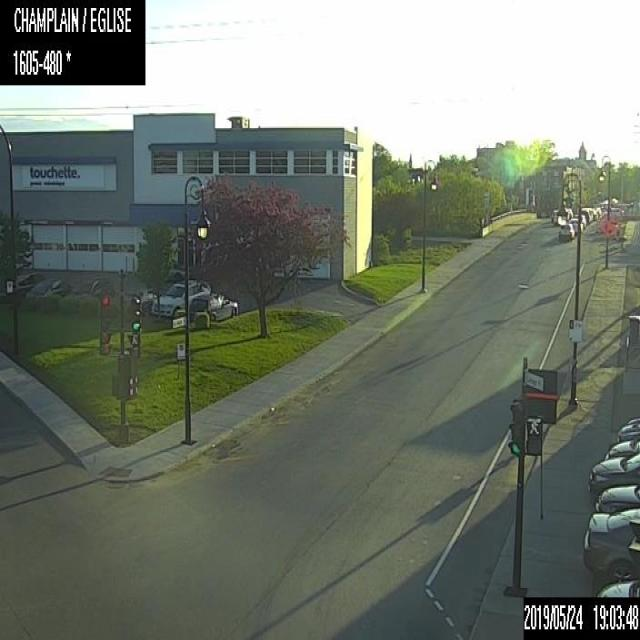construction: (602, 220, 613, 235)
vehicle: (583, 506, 639, 582), (151, 278, 211, 317), (587, 450, 639, 494), (188, 292, 238, 320), (594, 482, 639, 513), (1, 270, 45, 296), (67, 275, 113, 299), (26, 276, 73, 298), (122, 287, 160, 313), (604, 436, 639, 458), (596, 579, 639, 596), (618, 418, 639, 443), (166, 261, 185, 280), (551, 208, 572, 223), (557, 222, 574, 240), (568, 217, 582, 233), (580, 206, 593, 221), (573, 213, 586, 228), (580, 209, 588, 223), (588, 206, 596, 219)
